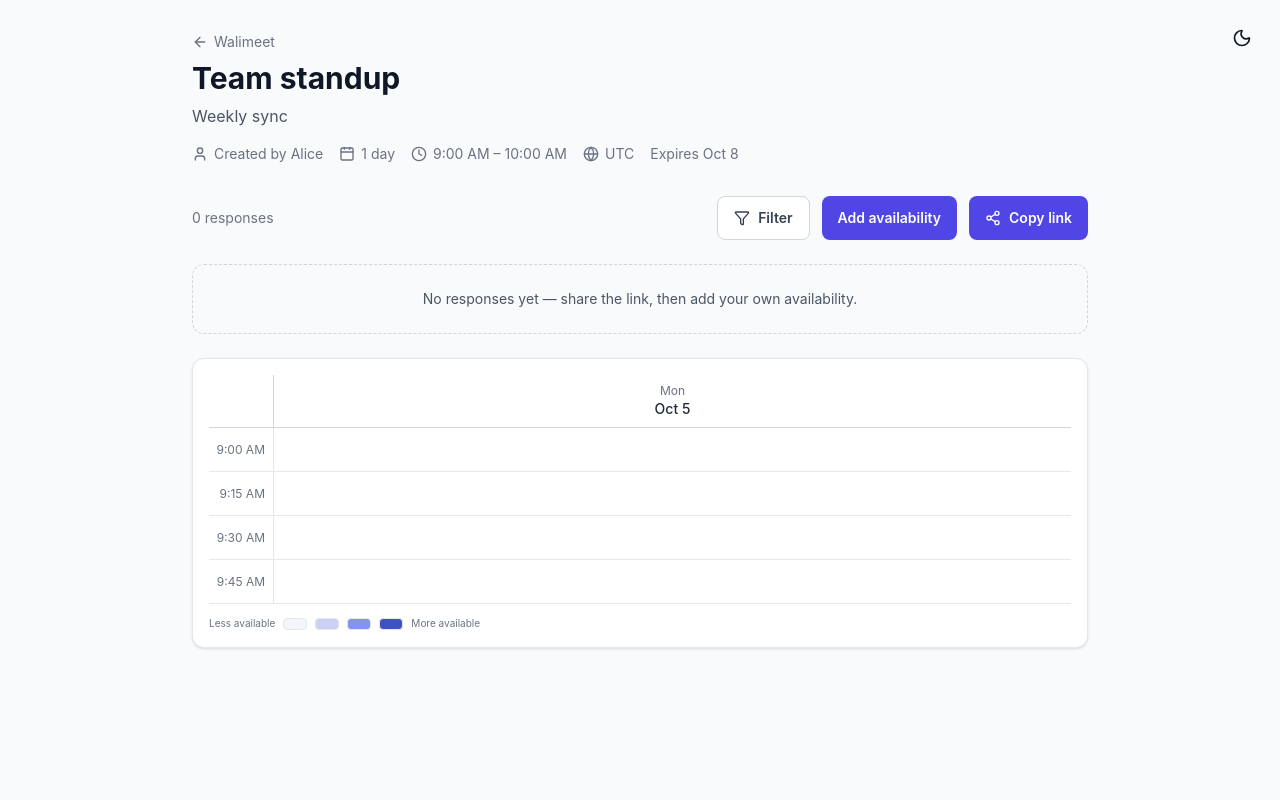
Test: submit flow — fresh name › renders submit errors inside the modal without native dialogs
expect the heading "Team standup" is shown: met, box [192,60,400,96]
Click the button "Add availability" at (889, 218), box [822,196,957,240]
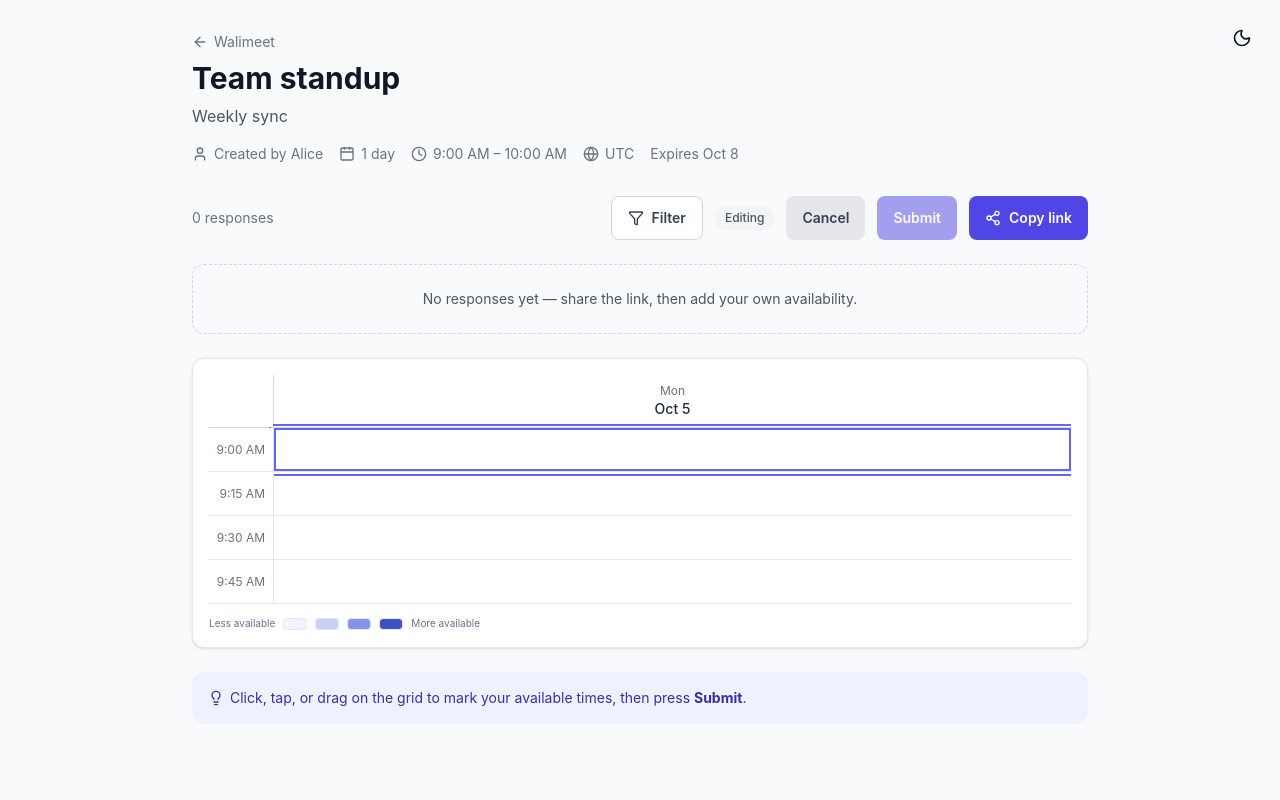
Type keys " "
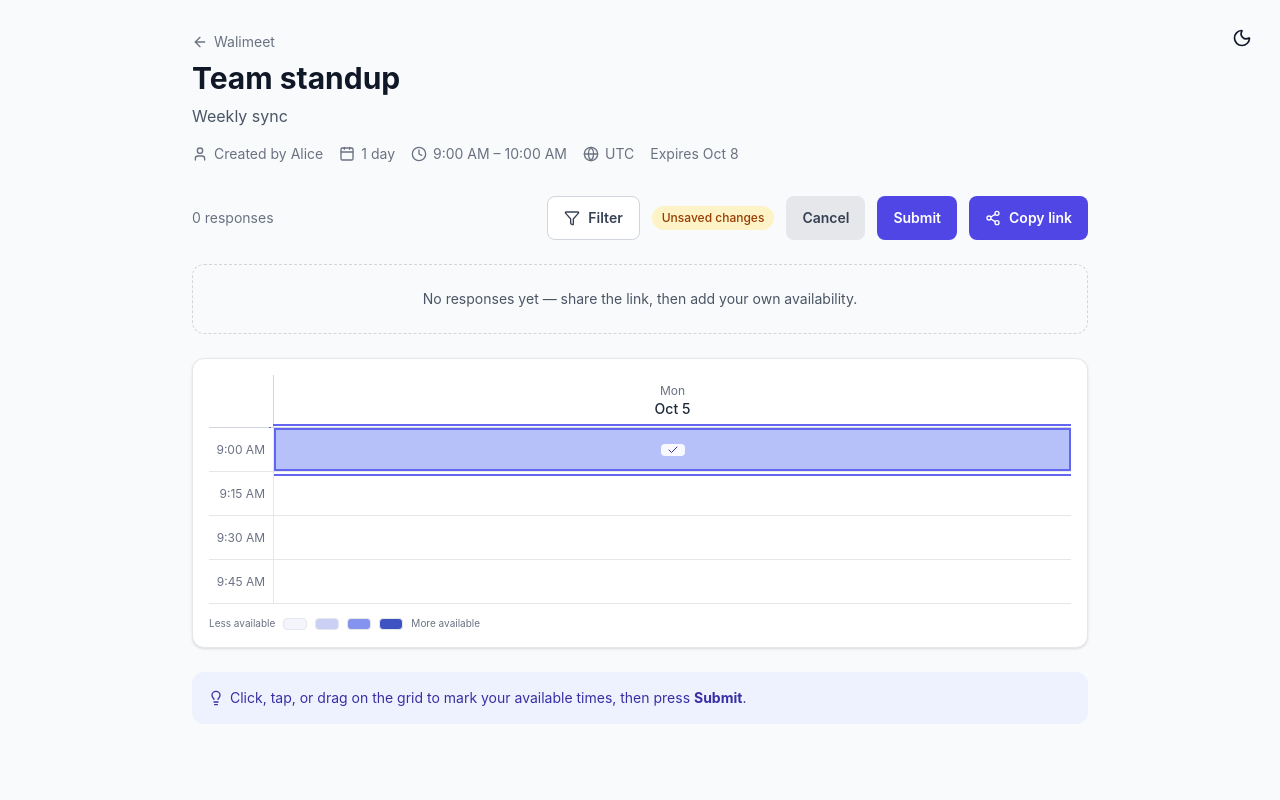
Click the button "Submit" at (917, 218), box [877,196,957,240]
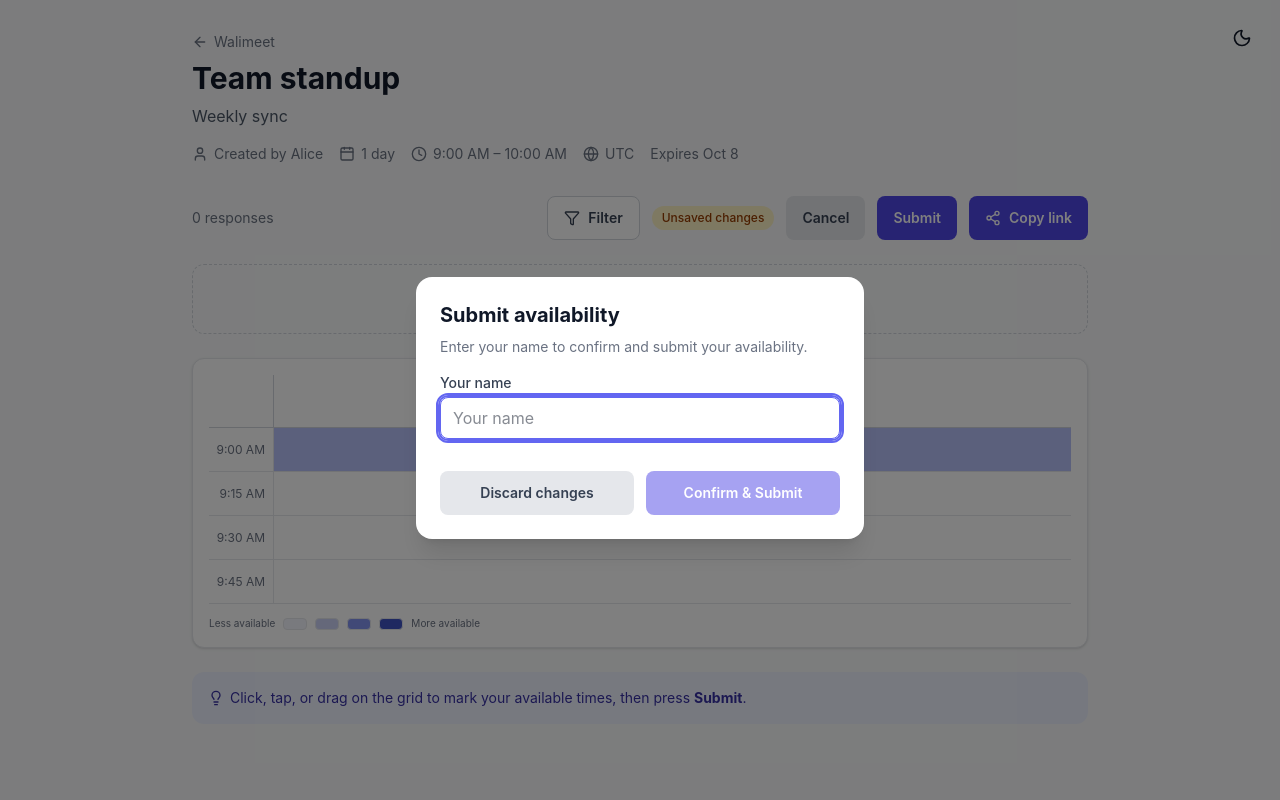
expect the dialog is shown: met, box [416,277,864,539]
Type "Bob" into the field labelled "Your name" at (640, 418), box [440,397,840,439]
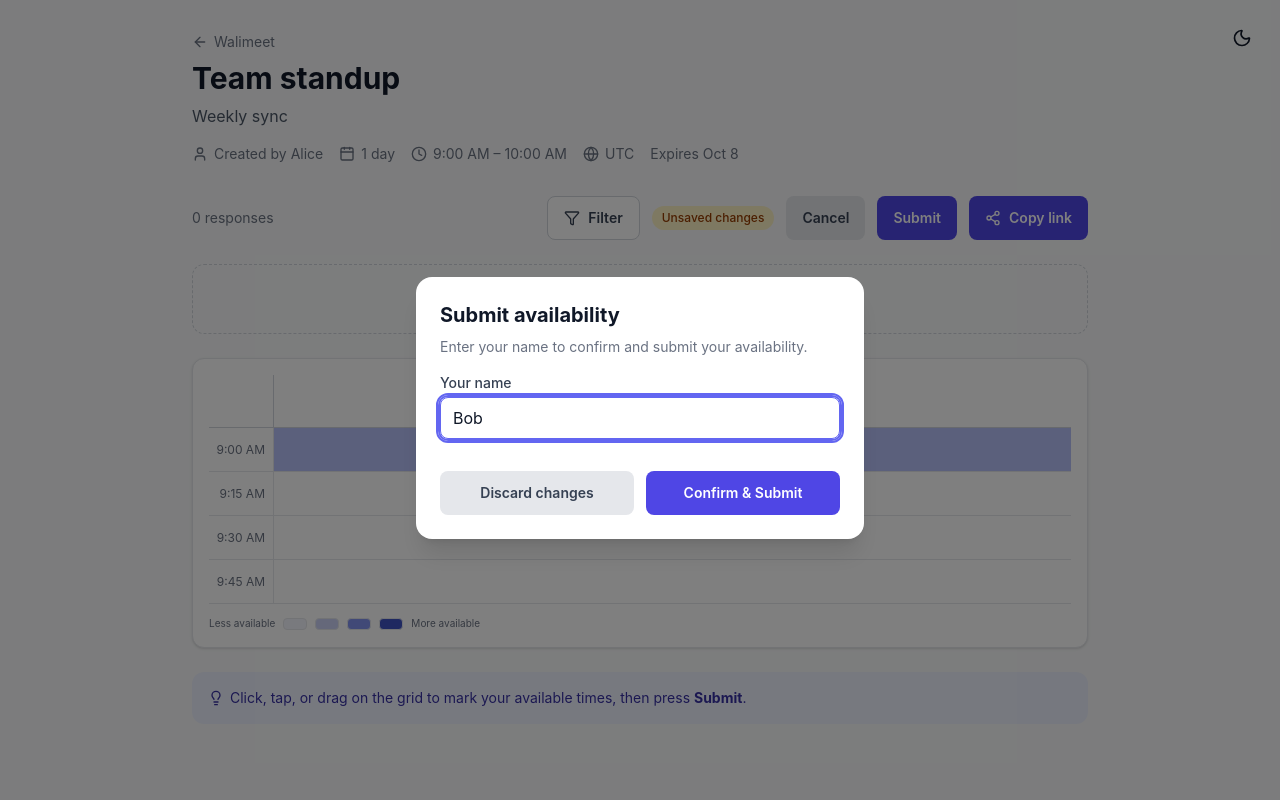
Click the button "Confirm & Submit" at (743, 493), box [646,471,840,515]
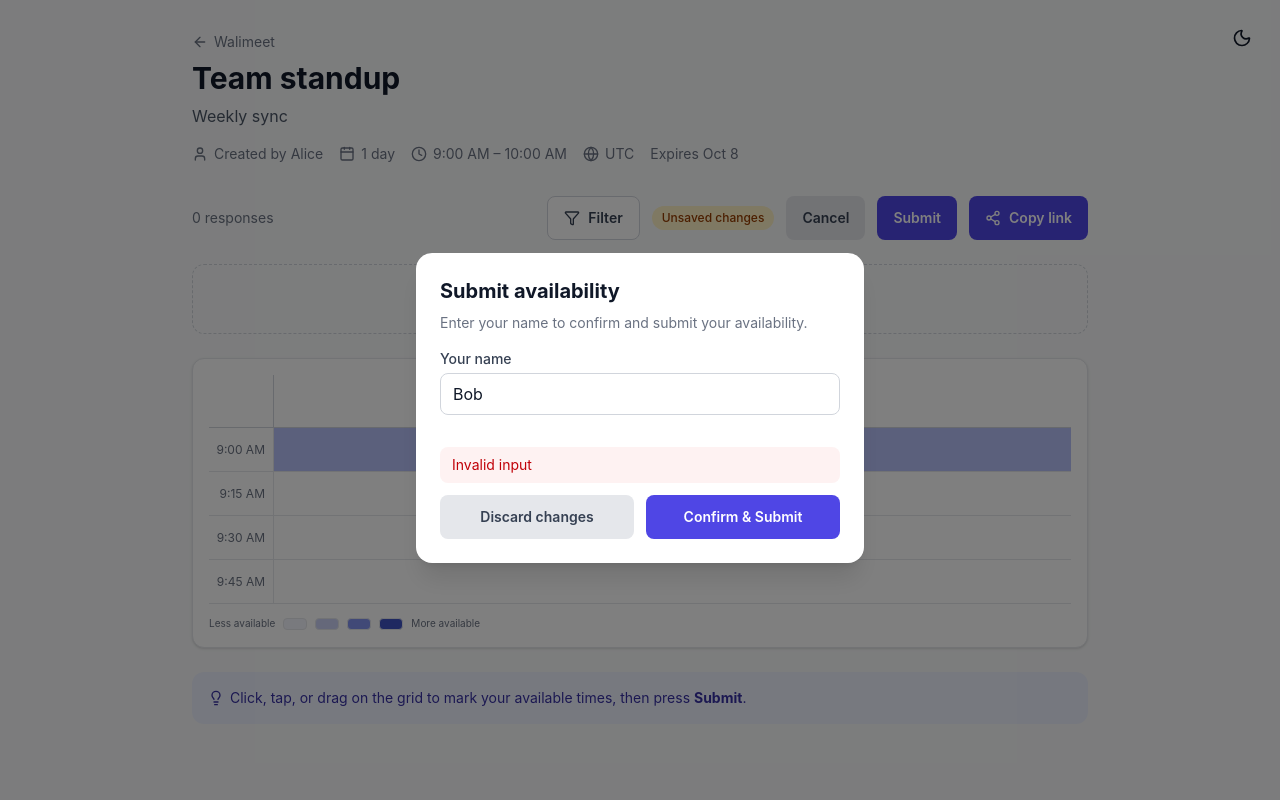
expect the message reads "Invalid input": met, box [452,456,532,473]
